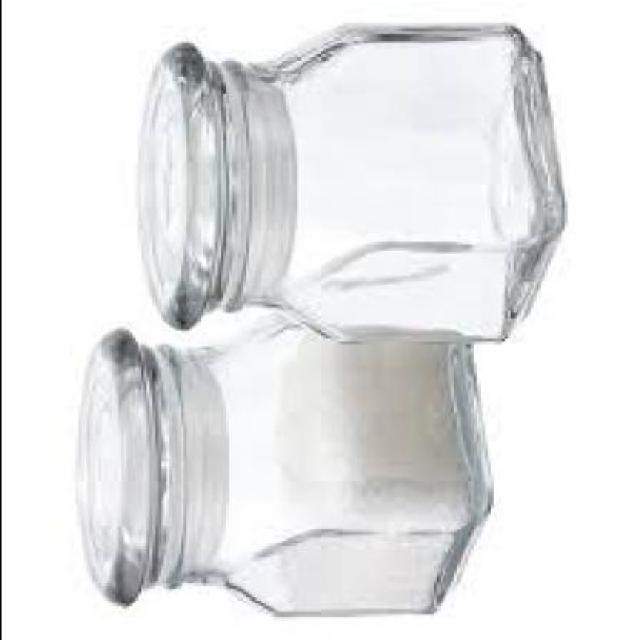GLASS: (134, 25, 563, 347), (74, 322, 489, 620)
